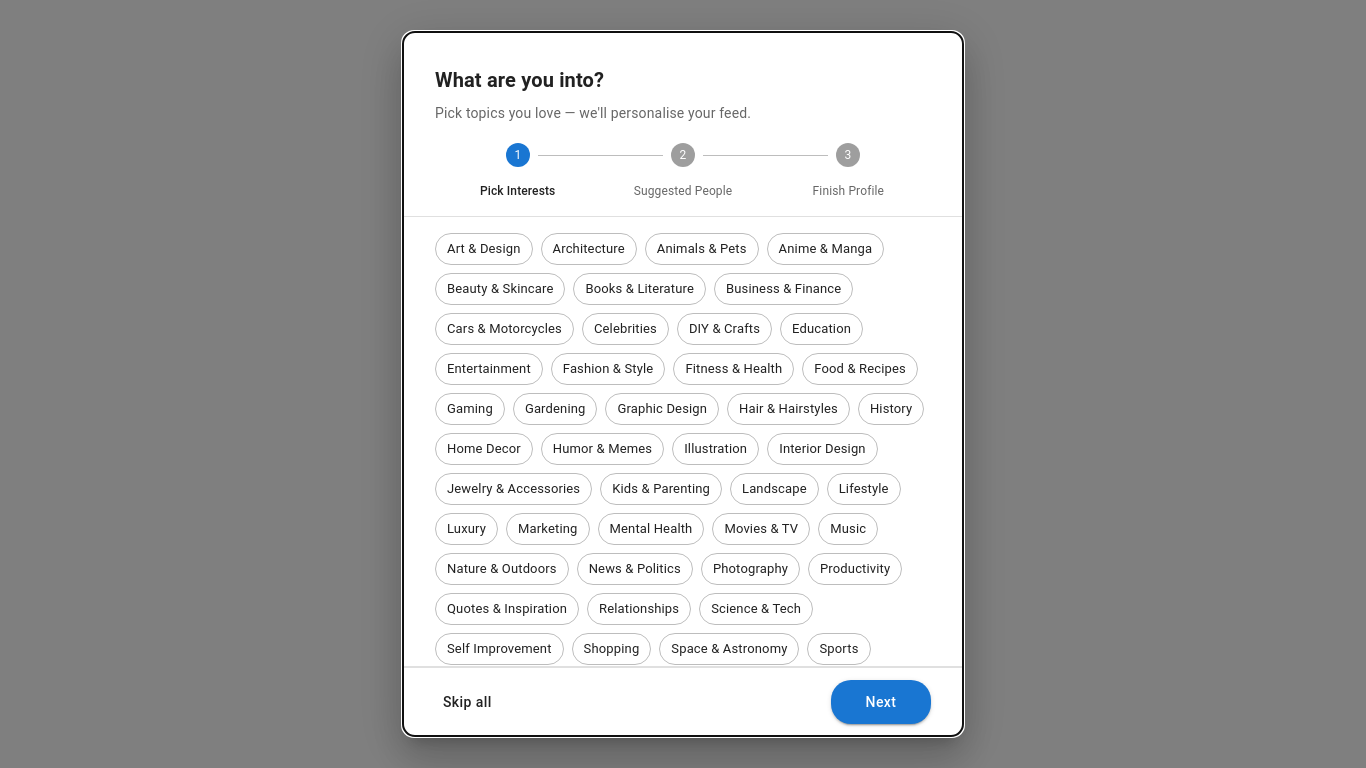
OnboardingWizard › shows finish-profile step (step 3) when user is a Google-login user with incomplete profile
Expected: the text "Finish Profile" is shown, [813,184,884,198]
# Advance to step 3
Step 1. Click the button "Next" → [881, 702], box [831,680,931,724]
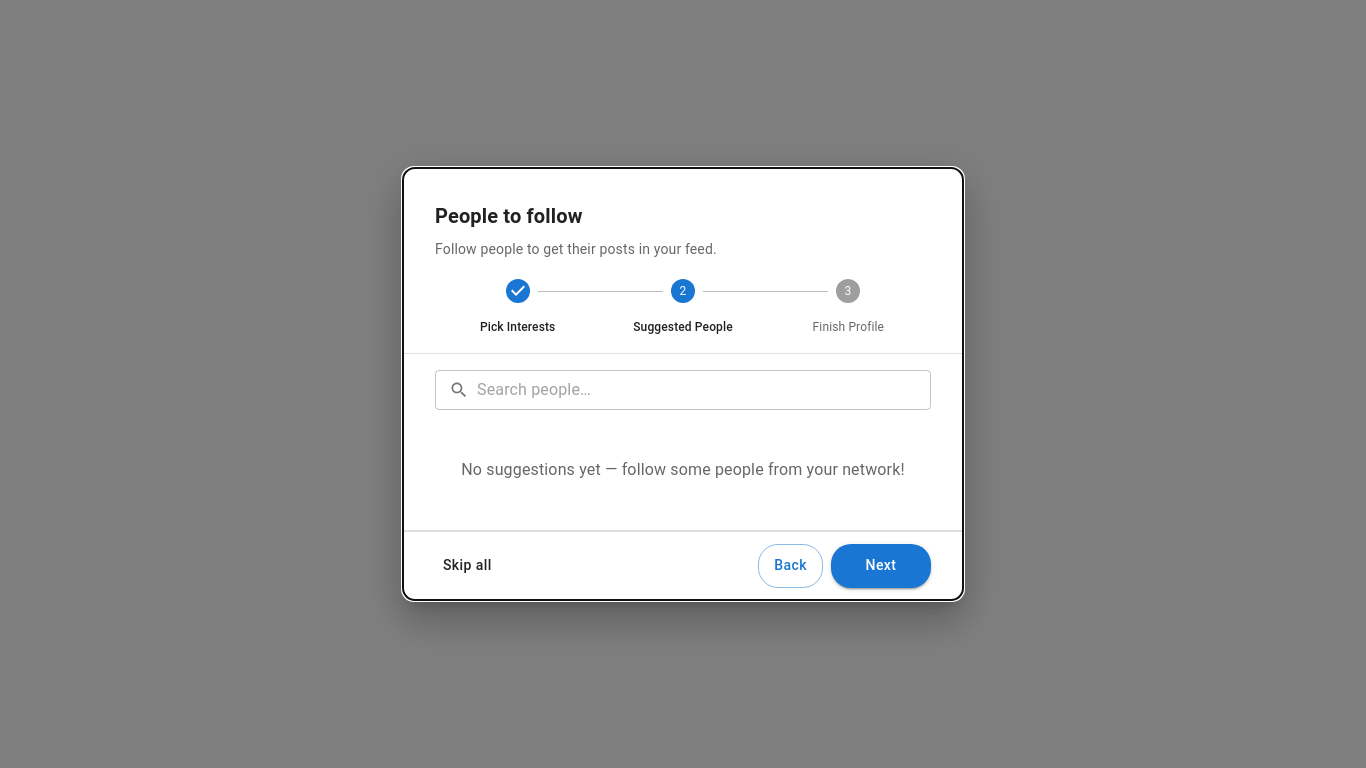
Step 2. Click the button "Next" → [881, 566], box [831,544,931,588]
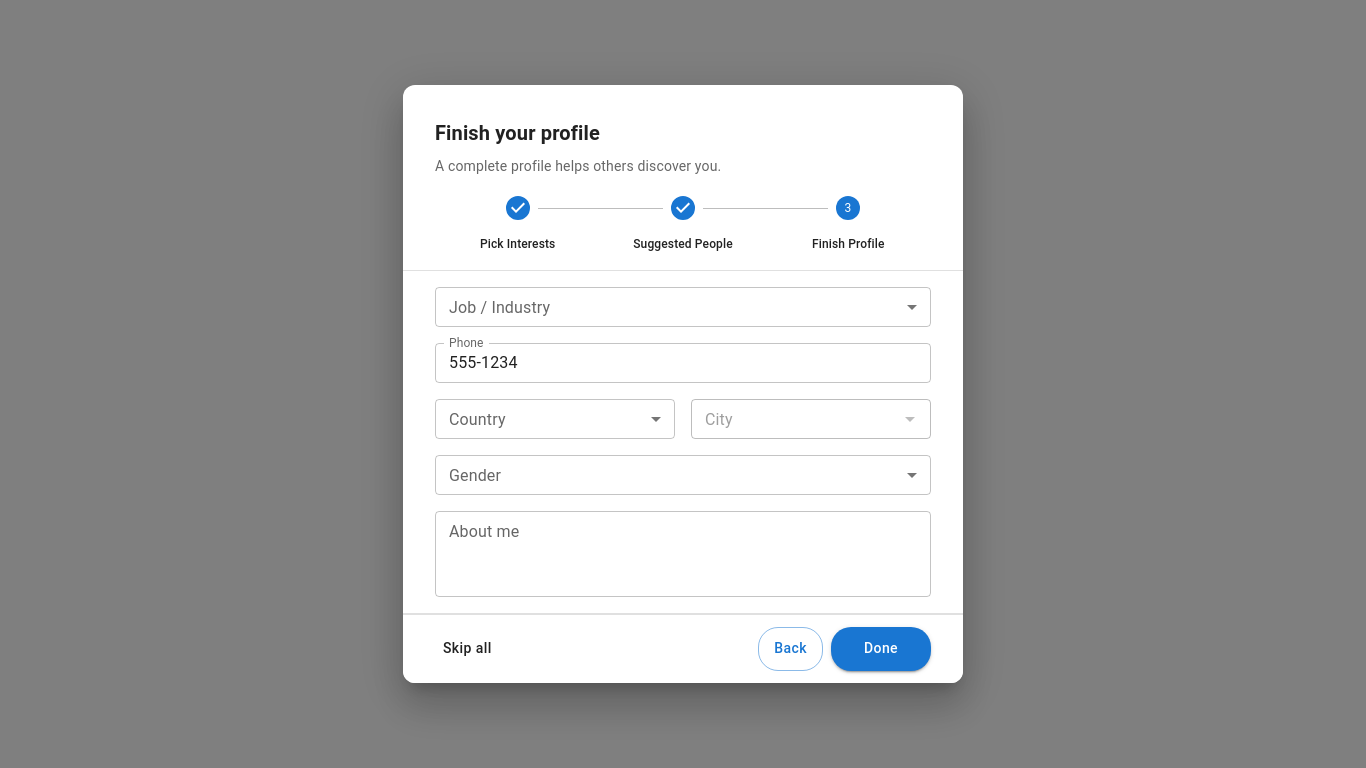
Expected: the heading "Finish your profile" is shown, [435,121,600,145]
